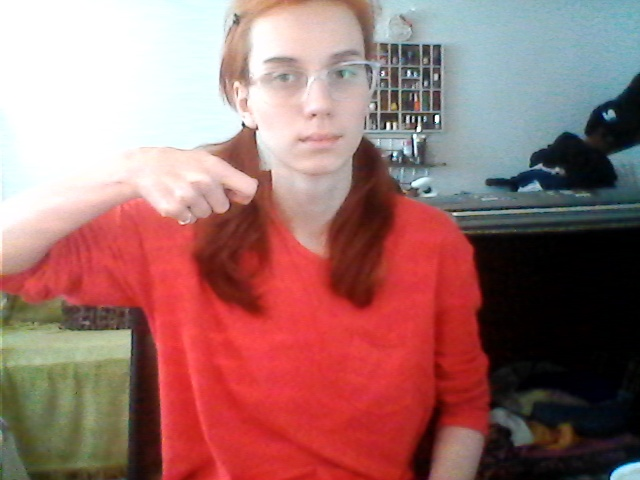jest: (129, 126, 318, 227)
